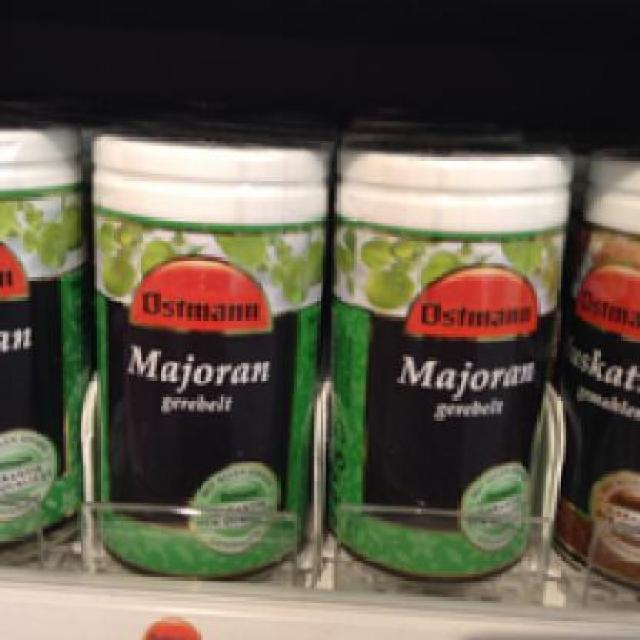Spices: (323, 131, 568, 584), (86, 127, 323, 584)
